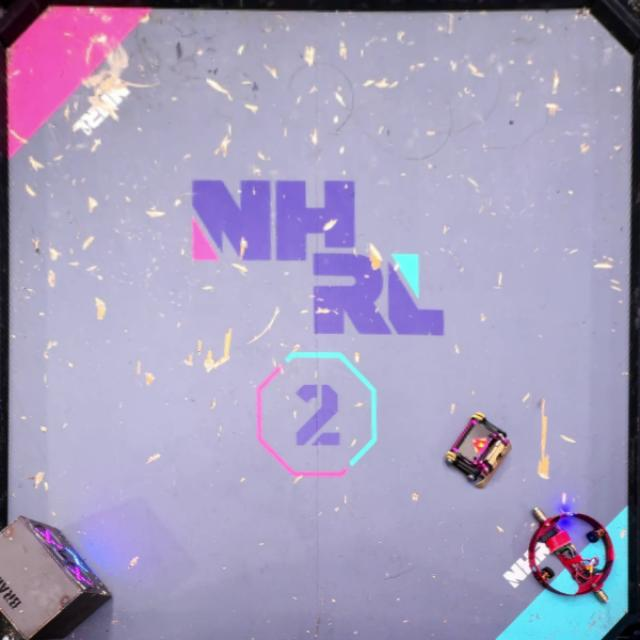housebot: (0, 517, 113, 640)
robot: (528, 508, 614, 603), (443, 412, 512, 488)
